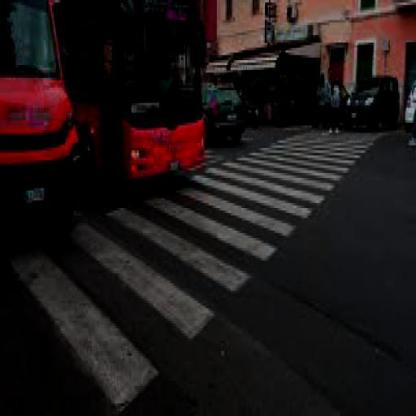crosswalk: (99, 191, 280, 304)
